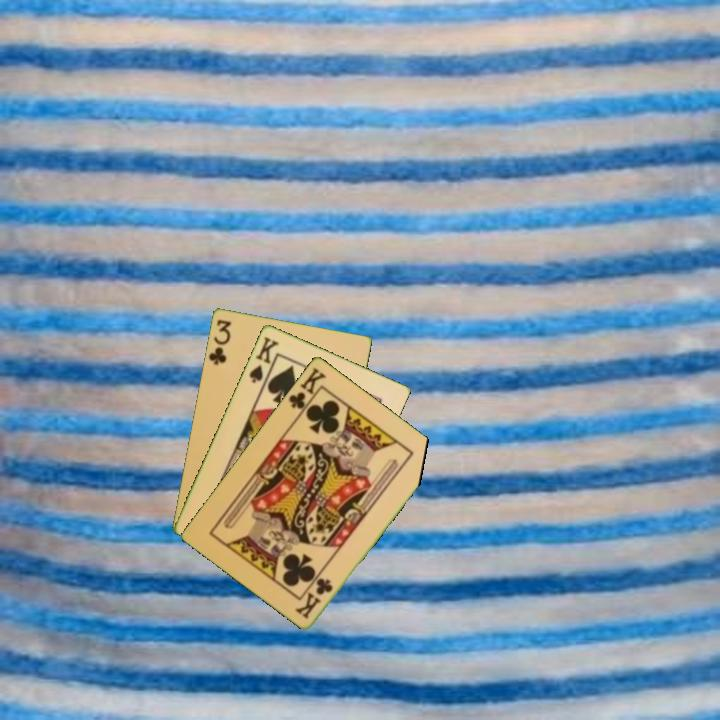3c: (205, 316, 234, 367)
Kc: (285, 363, 329, 418), (292, 574, 336, 621)
Ks: (245, 333, 282, 385)
